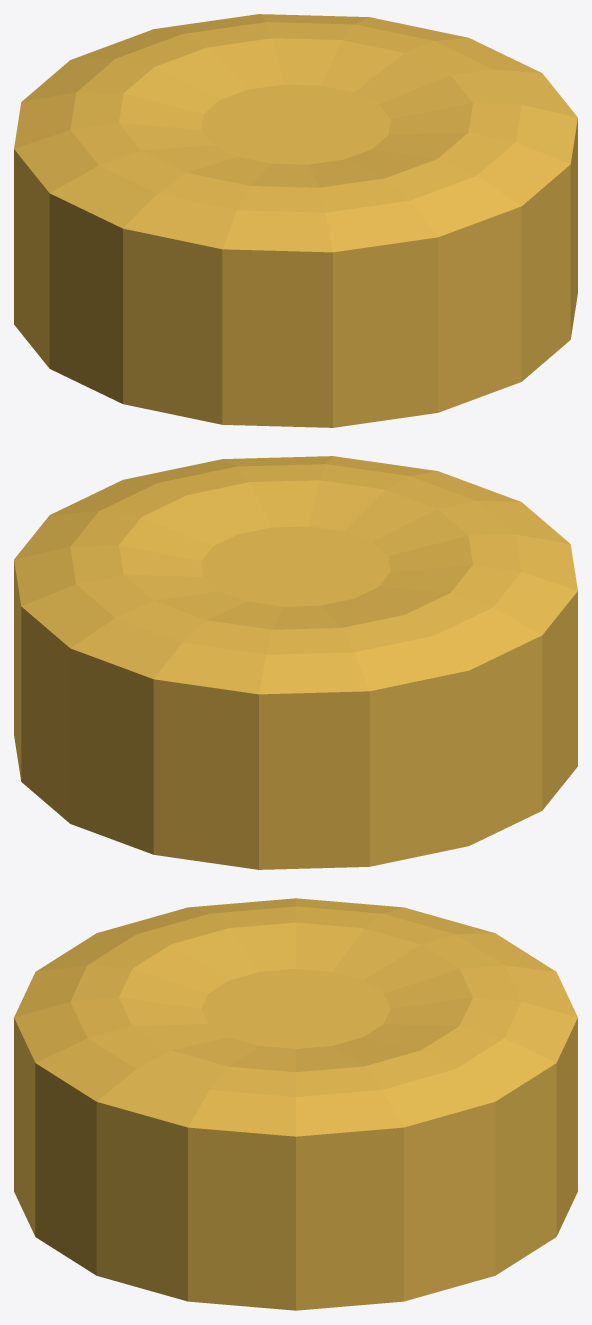
The model's file is Flower_Center.fbx.
The picture shows the model from 3 angles, top to bottom: view 1: azimuth 30°, elevation 25°; view 2: azimuth 150°, elevation 25°; view 3: azimuth 270°, elevation 25°; orthographic projection.
Visible parts, largest first — view 1: SM_Flower_Center; view 2: SM_Flower_Center; view 3: SM_Flower_Center.
Part boxes in pixels (box(x1,y1,x2,y2)): SM_Flower_Center: box(14, 14, 577, 427); SM_Flower_Center: box(14, 456, 577, 869); SM_Flower_Center: box(14, 898, 577, 1310).
Size of the model in its own units: 23.4 by 8.89 by 23.4.
